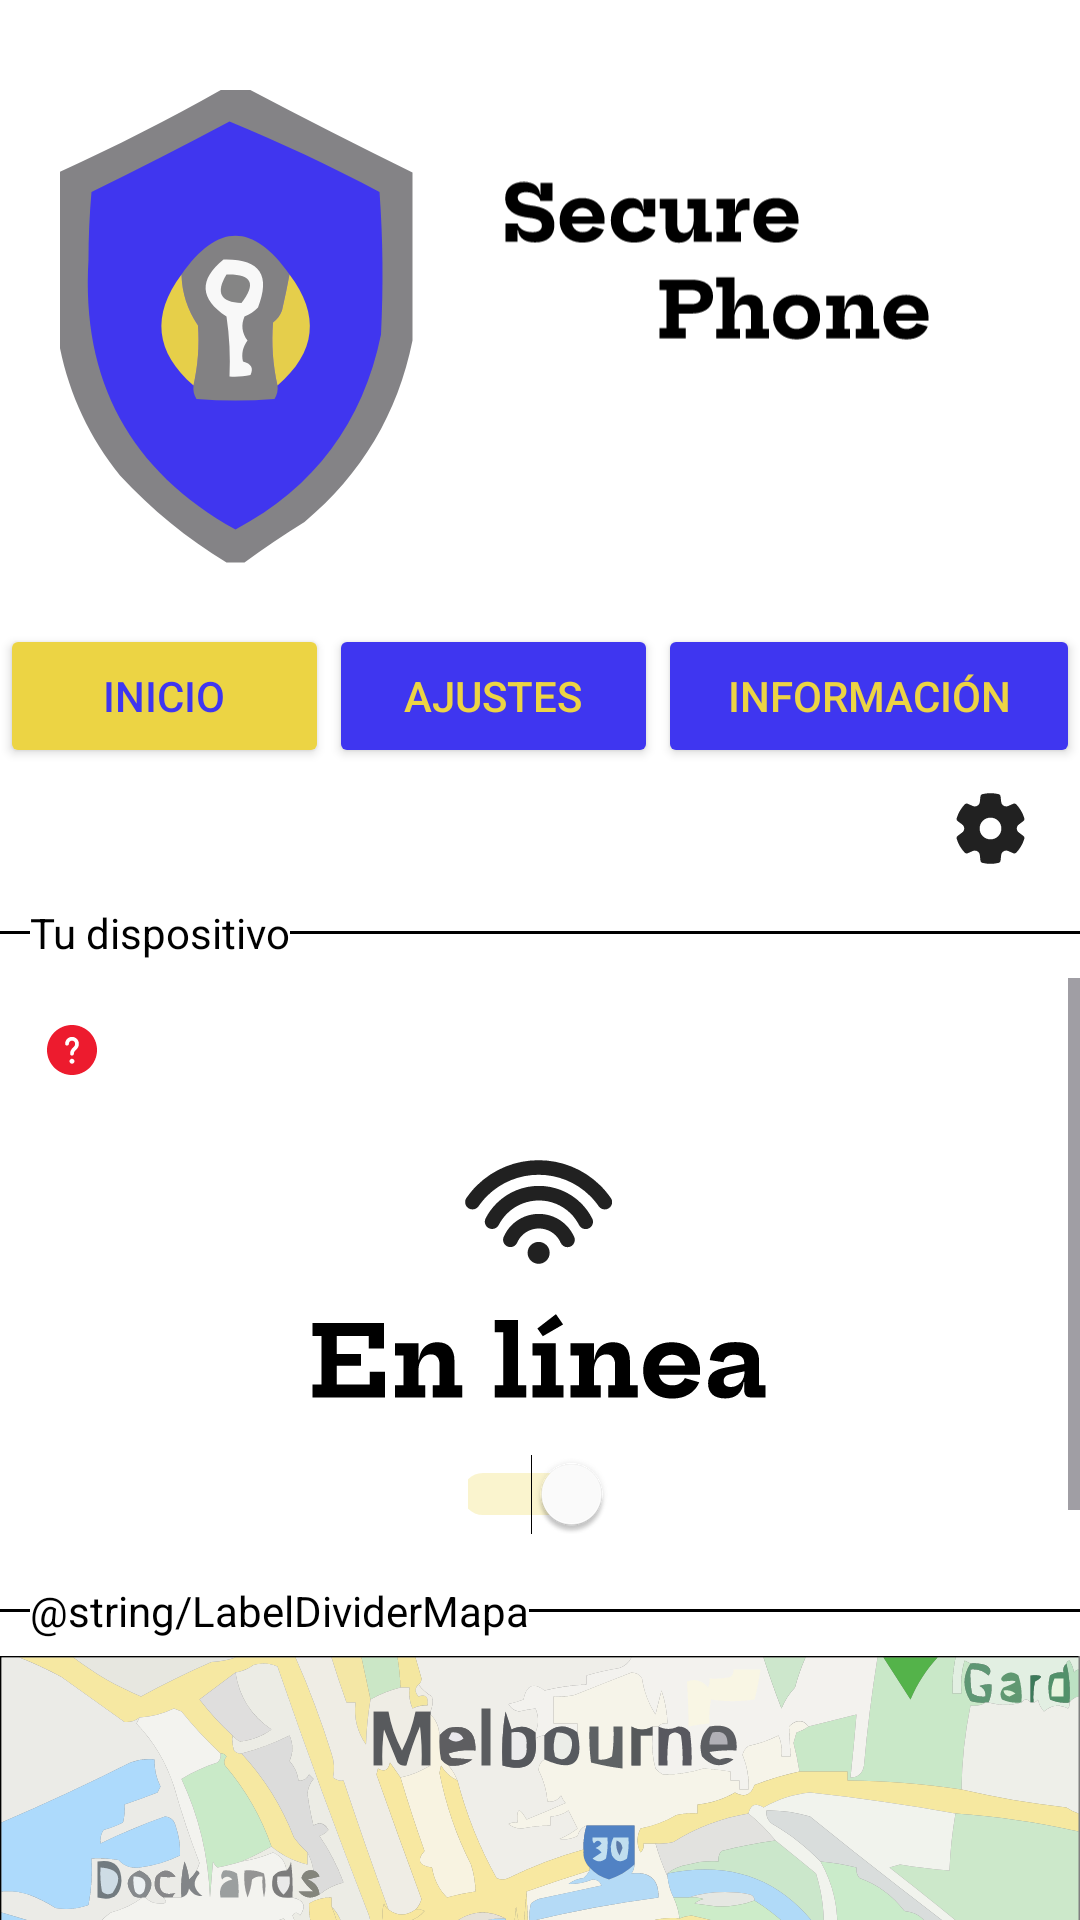

Icon bounding boxes for this 1080w x 1920h phone screenshot, format (x1, y1, x2, y2):
Configuración: (956, 793, 1025, 864)
